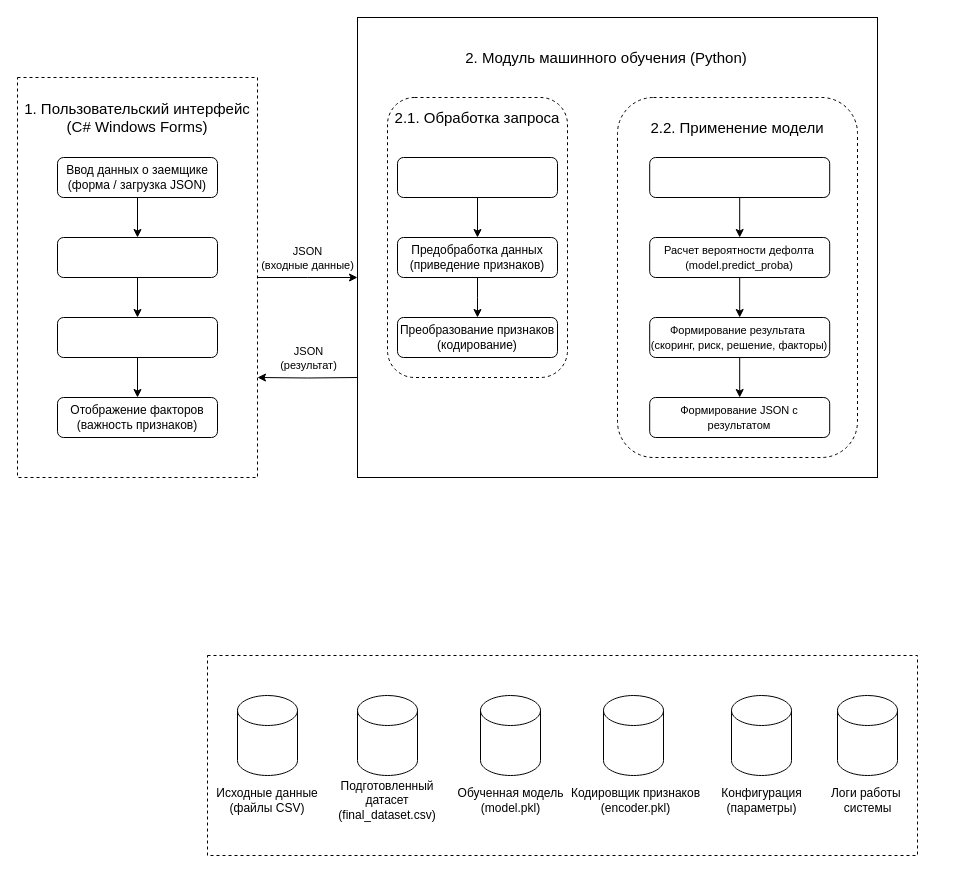
The diagram is 953 pixels wide and 873 high, and some of its shapes have lost their labels. Each missing label, with the centre of its shape:
Загрузка входных данных (JSON): the point at 477,177
Загрузка модели и метаданных (model.pkl, columns.pkl): the point at 739,177
Запуск оценки кредитоспособности: the point at 137,257
Отображение результатов (скоринг, риск, решение): the point at 137,337
